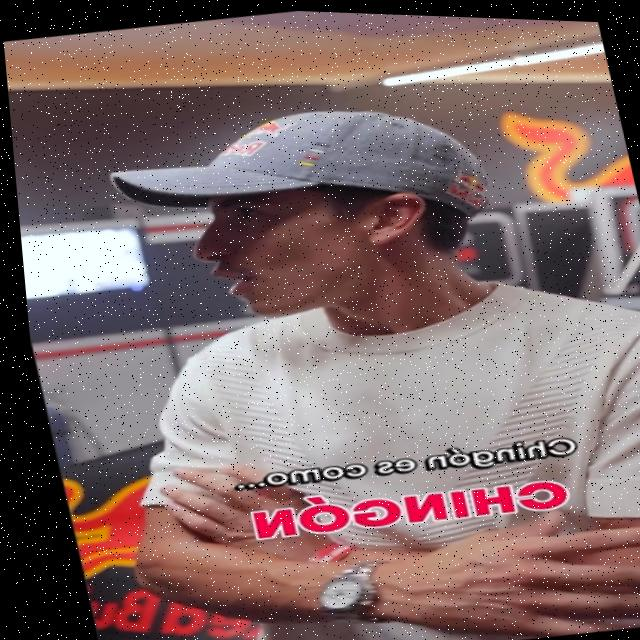illegal_helmet: (89, 75, 527, 347)
